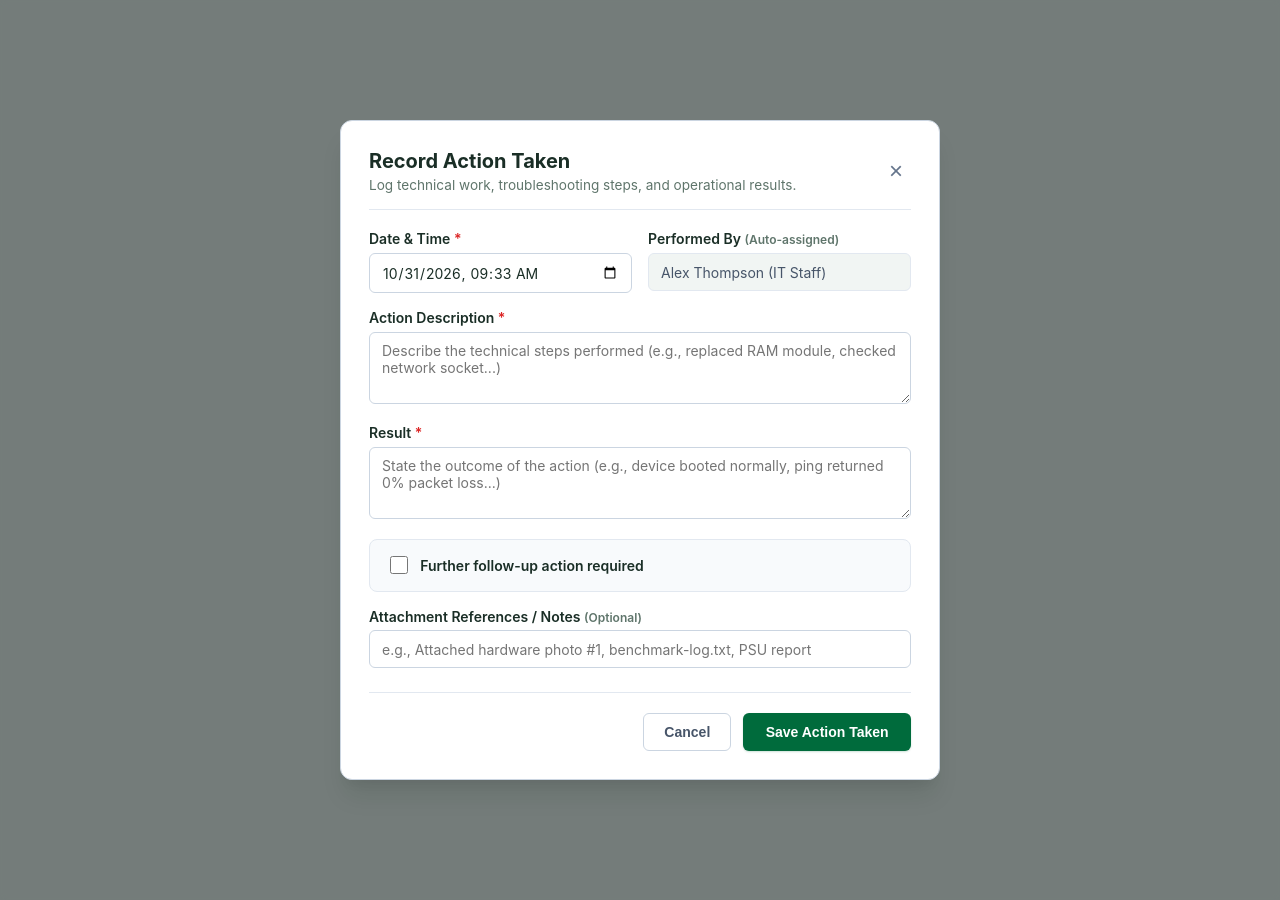
Test case: COMP-01, COMP-02, AUTH-01, AUTH-02: ActionsTakenSection & Modal Component Tests › preserves form inputs (Safe Failure) when API returns an error during submission
Type "Diagnosed faulty capacitor." into the text box with test id "action-description-input". click: (640, 368)
box: [369,332,911,404]
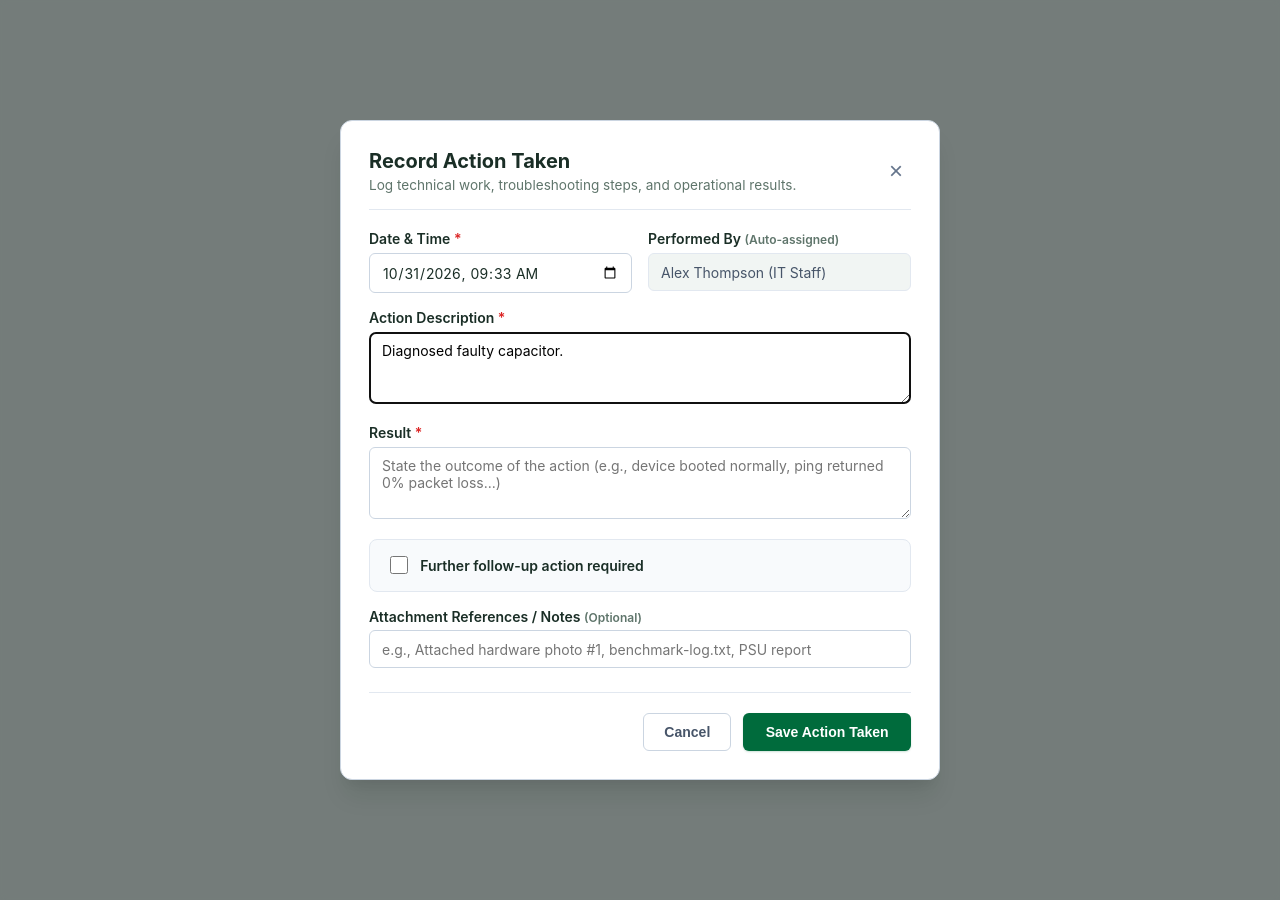
Type "Resistance reads 0 ohms." into the text box with test id "action-result-input". click: (640, 483)
box: [369,447,911,519]
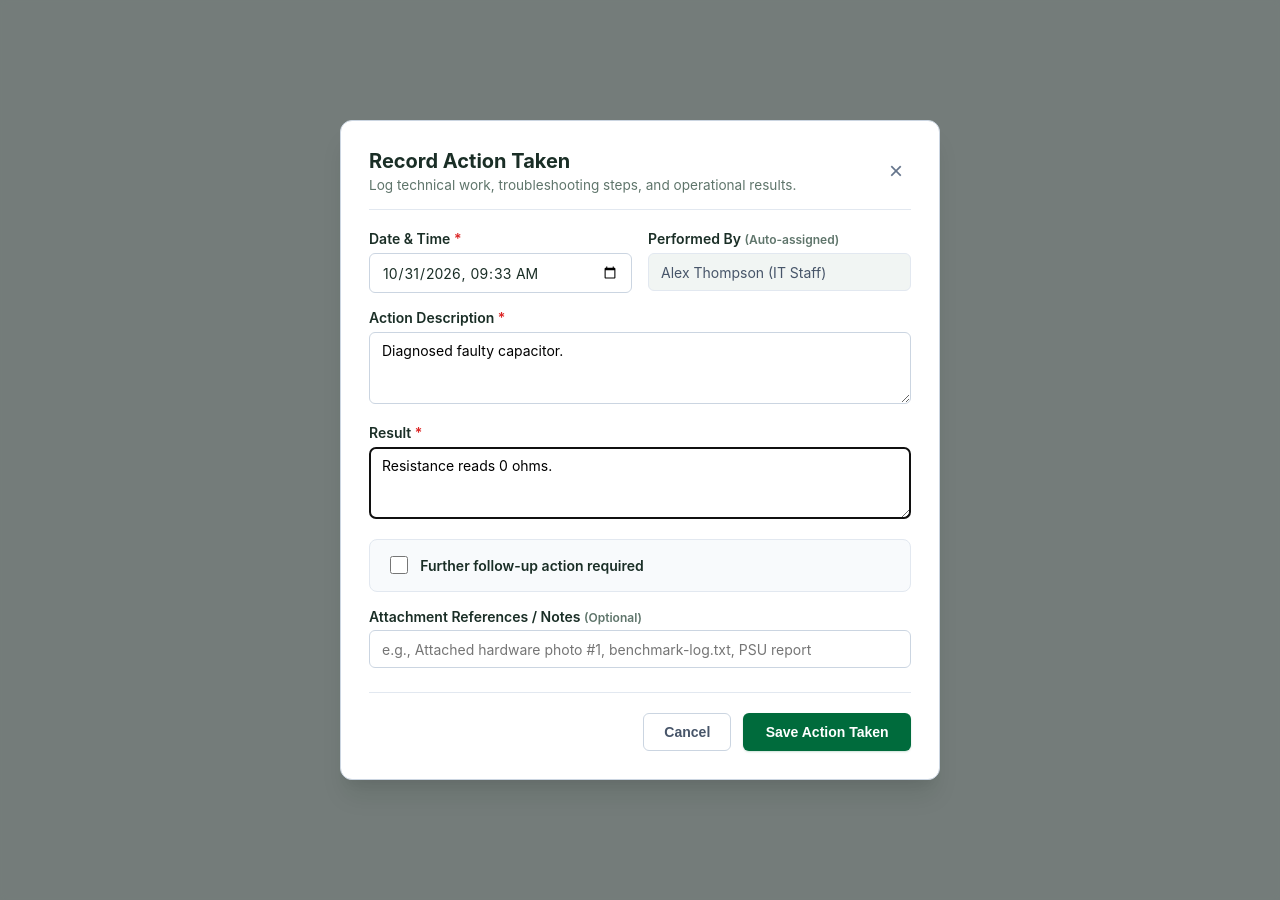
Click the button with test id "save-action-btn". click: click(827, 732)
box: [743,713,911,751]
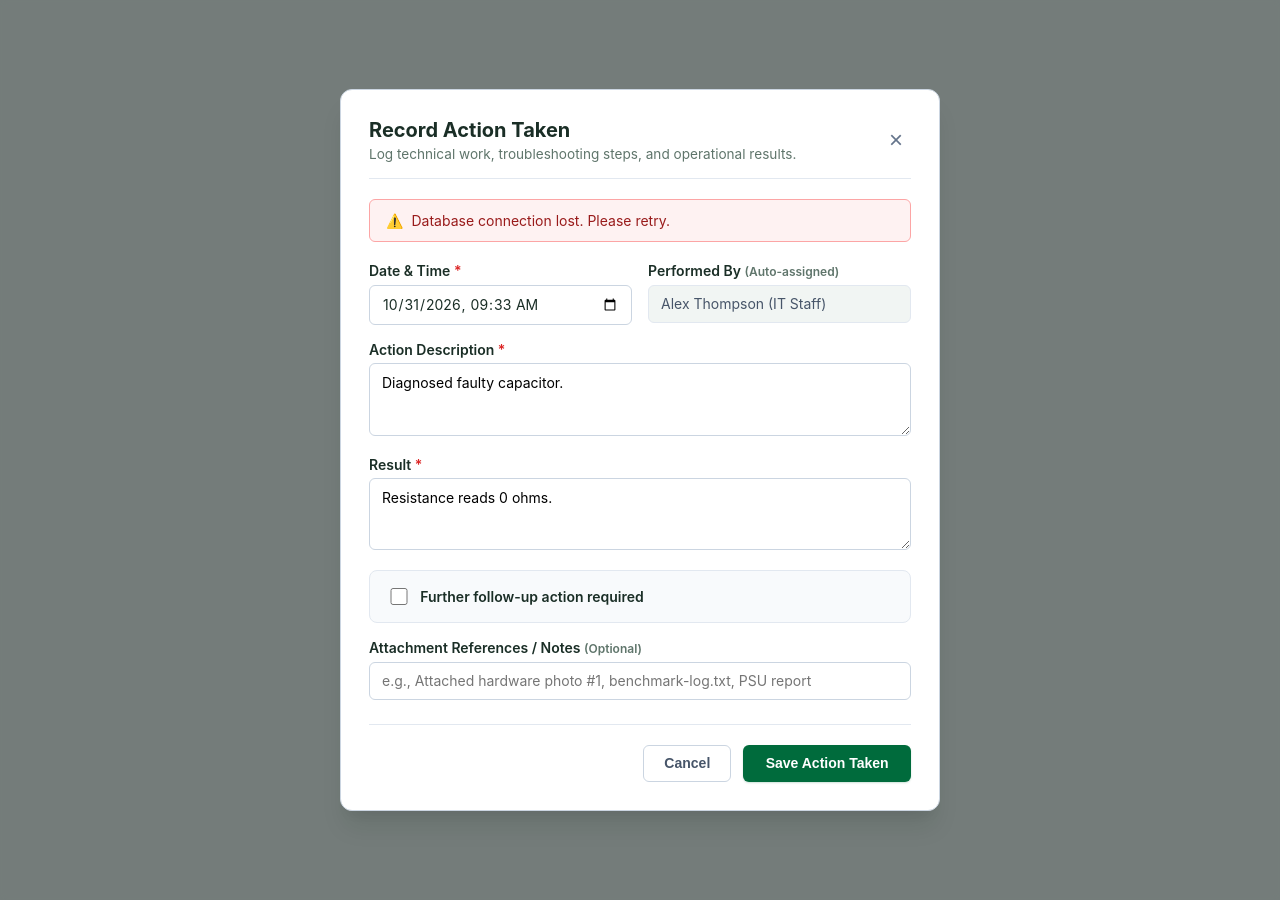
Check: the message with test id "action-form-error" shows "Database connection lost. Please retry.", box [412,212,670,229]
